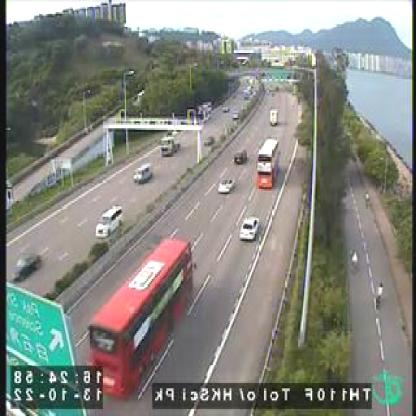Bus: (89, 236, 194, 398), (255, 137, 280, 188)
Car: (93, 202, 123, 241), (11, 250, 44, 285), (238, 216, 259, 242), (133, 162, 154, 186), (217, 176, 236, 196), (235, 147, 248, 163)
Truck: (159, 134, 179, 156), (268, 108, 277, 127)
